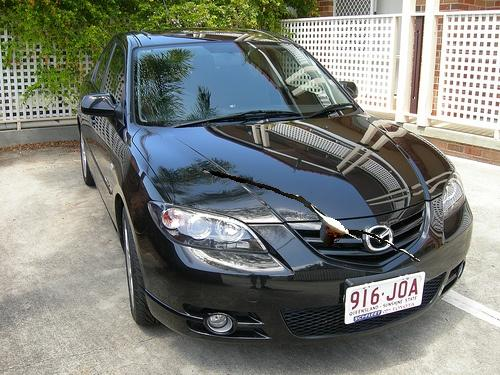tampered: (203, 170, 420, 262)
